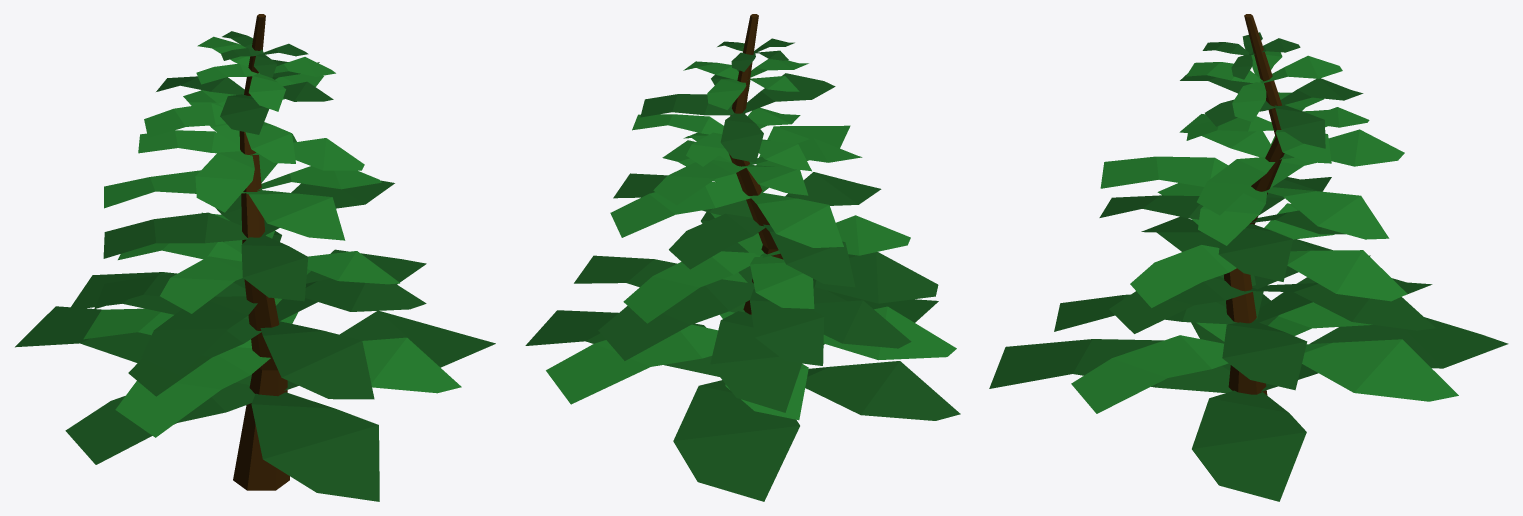
The model's file is albero_sfondo2.glb.
The picture shows the model from 3 angles, left to right: view 1: azimuth 30°, elevation 25°; view 2: azimuth 150°, elevation 25°; view 3: azimuth 270°, elevation 25°; orthographic projection. The views are drawn at different scales.
Visible parts, largest first — view 1: Plane.003, Cylinder.006, Plane.011, Plane.007, Plane.015, Plane.002, Plane.023, Plane.004, Plane, Plane.001, Plane.020, Plane.025 (+25 smaller); view 2: Plane.001, Plane.002, Plane.005, Plane.009, Plane.013, Plane.017, Plane.014, Plane.015, Plane.024, Plane.027, Plane.010, Plane (+27 smaller); view 3: Plane, Plane.005, Plane.003, Plane.004, Plane.001, Plane.008, Plane.017, Cylinder.006, Plane.013, Plane.016, Plane.027, Plane.025 (+24 smaller).
Part boxes in pixels (<box>): Plane.003: <box>251,392,379,501</box>; Cylinder.006: <box>233,14,289,490</box>; Plane.011: <box>260,321,374,399</box>; Plane.007: <box>115,347,270,437</box>; Plane.015: <box>141,296,257,375</box>; Plane.002: <box>65,382,255,464</box>; Plane.023: <box>103,212,247,258</box>; Plane.004: <box>362,337,461,393</box>; Plane: <box>284,311,495,390</box>; Plane.001: <box>15,306,251,384</box>; Plane.020: <box>241,235,308,301</box>; Plane.025: <box>243,190,345,240</box>; Plane.001: <box>673,380,799,501</box>; Plane.002: <box>805,361,960,420</box>; Plane.005: <box>546,324,718,404</box>; Plane.009: <box>710,311,801,412</box>; Plane.013: <box>598,279,754,360</box>; Plane.017: <box>623,251,760,323</box>; Plane.014: <box>750,289,824,365</box>; Plane.015: <box>813,252,938,303</box>; Plane.024: <box>749,193,843,247</box>; Plane.027: <box>610,181,750,237</box>; Plane.010: <box>749,300,911,348</box>; Plane: <box>525,310,719,376</box>; Plane: <box>1192,390,1306,501</box>; Plane.005: <box>1302,339,1458,401</box>; Plane.003: <box>989,339,1232,392</box>; Plane.004: <box>1071,335,1228,413</box>; Plane.001: <box>1261,317,1508,391</box>; Plane.008: <box>1222,322,1307,390</box>; Plane.017: <box>1287,250,1407,301</box>; Cylinder.006: <box>1224,14,1284,395</box>; Plane.013: <box>1248,283,1435,330</box>; Plane.016: <box>1130,245,1236,307</box>; Plane.027: <box>1262,187,1389,239</box>; Plane.025: <box>1100,156,1227,188</box>.
Bounding box in the file's own units: 5.45 × 5.84 × 6.02.
